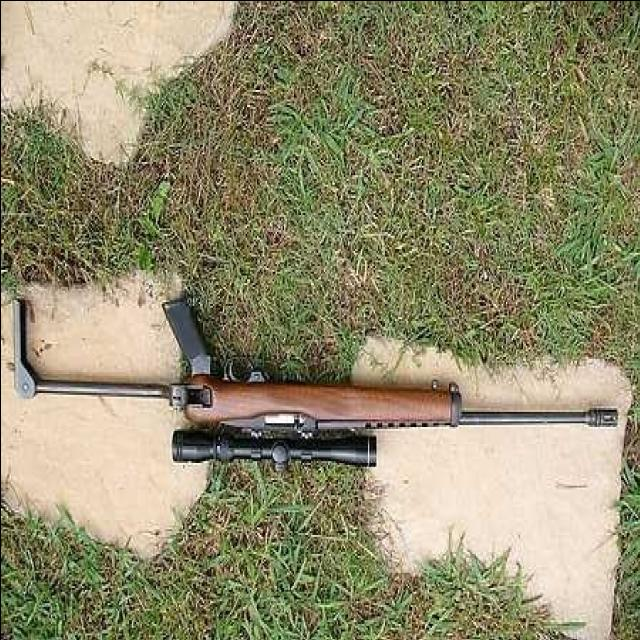heavyweapon: (12, 285, 634, 512)
